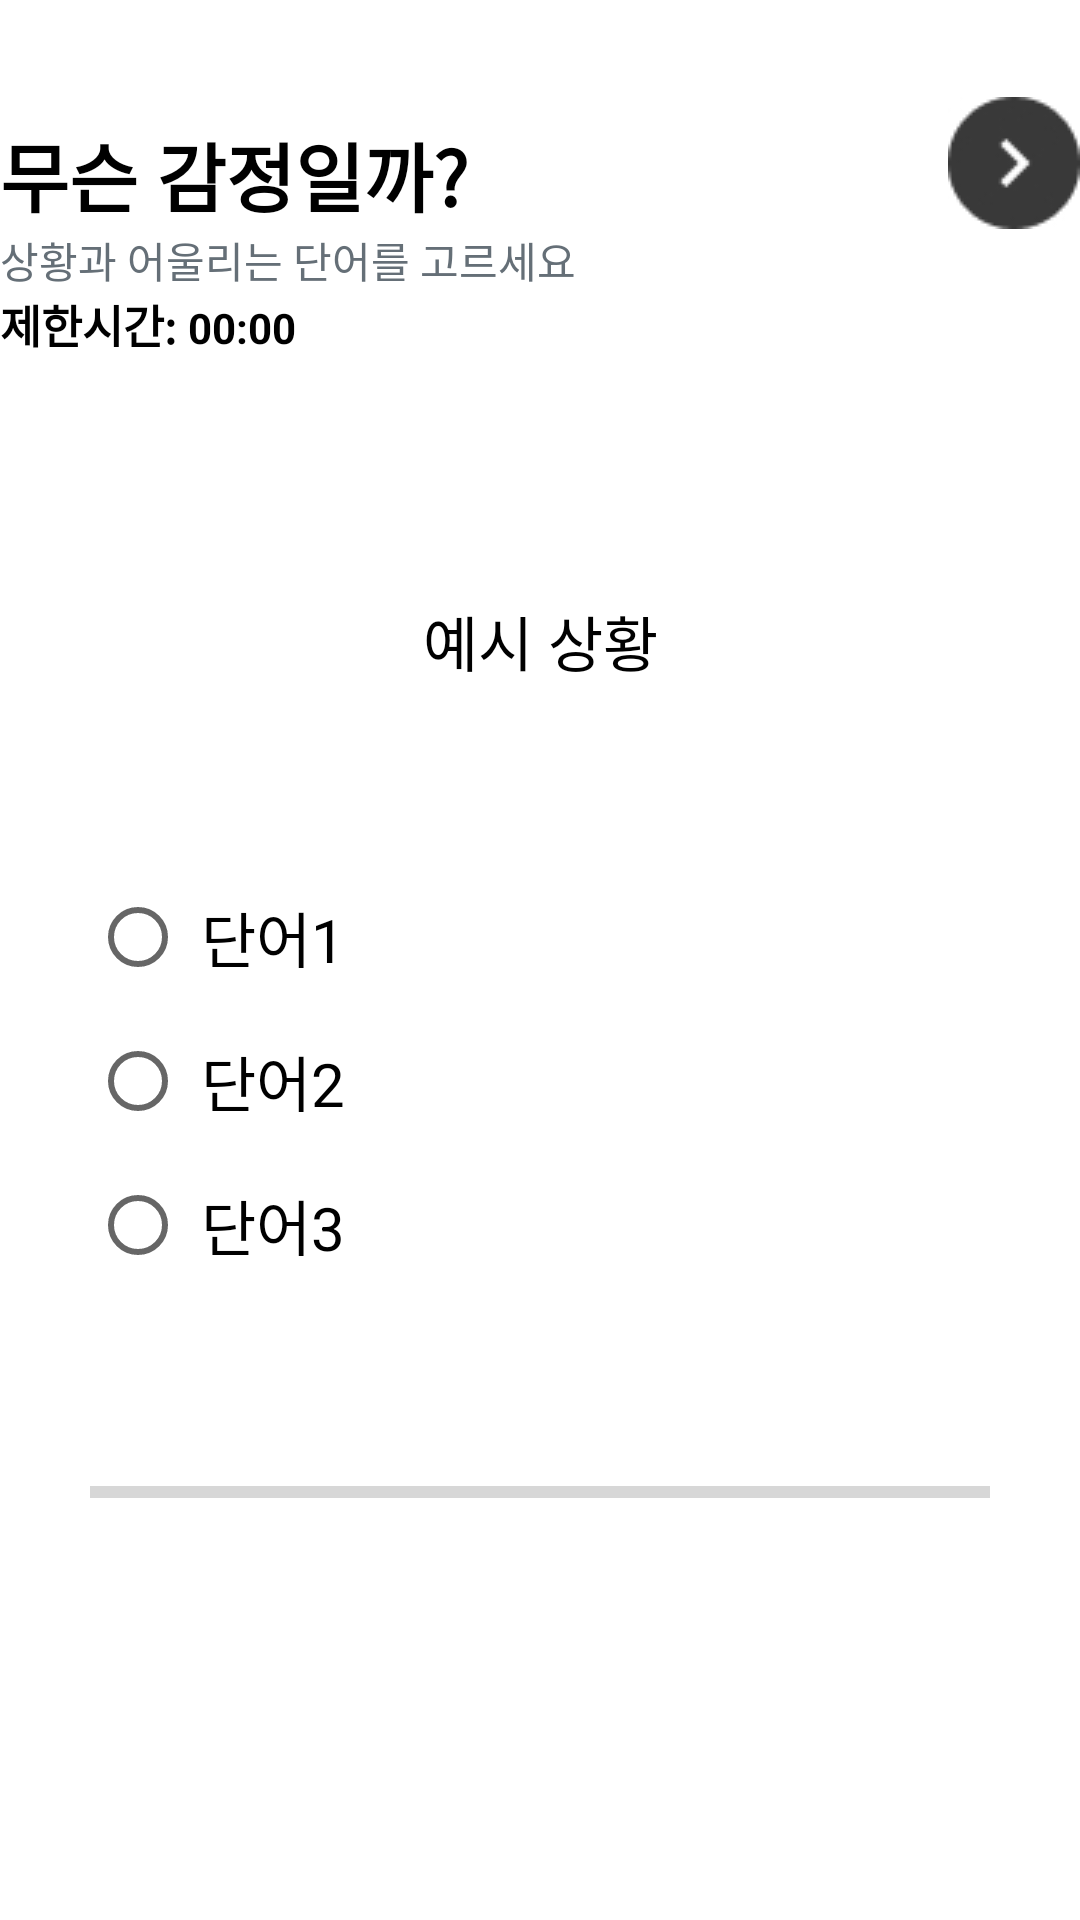

Screen size 1080x1920. Icon name, then its box in pixels as [x1=x1, y1=y1, x2=x2, y2=y2]:
arrow: [x1=948, y1=97, x2=1080, y2=229]
